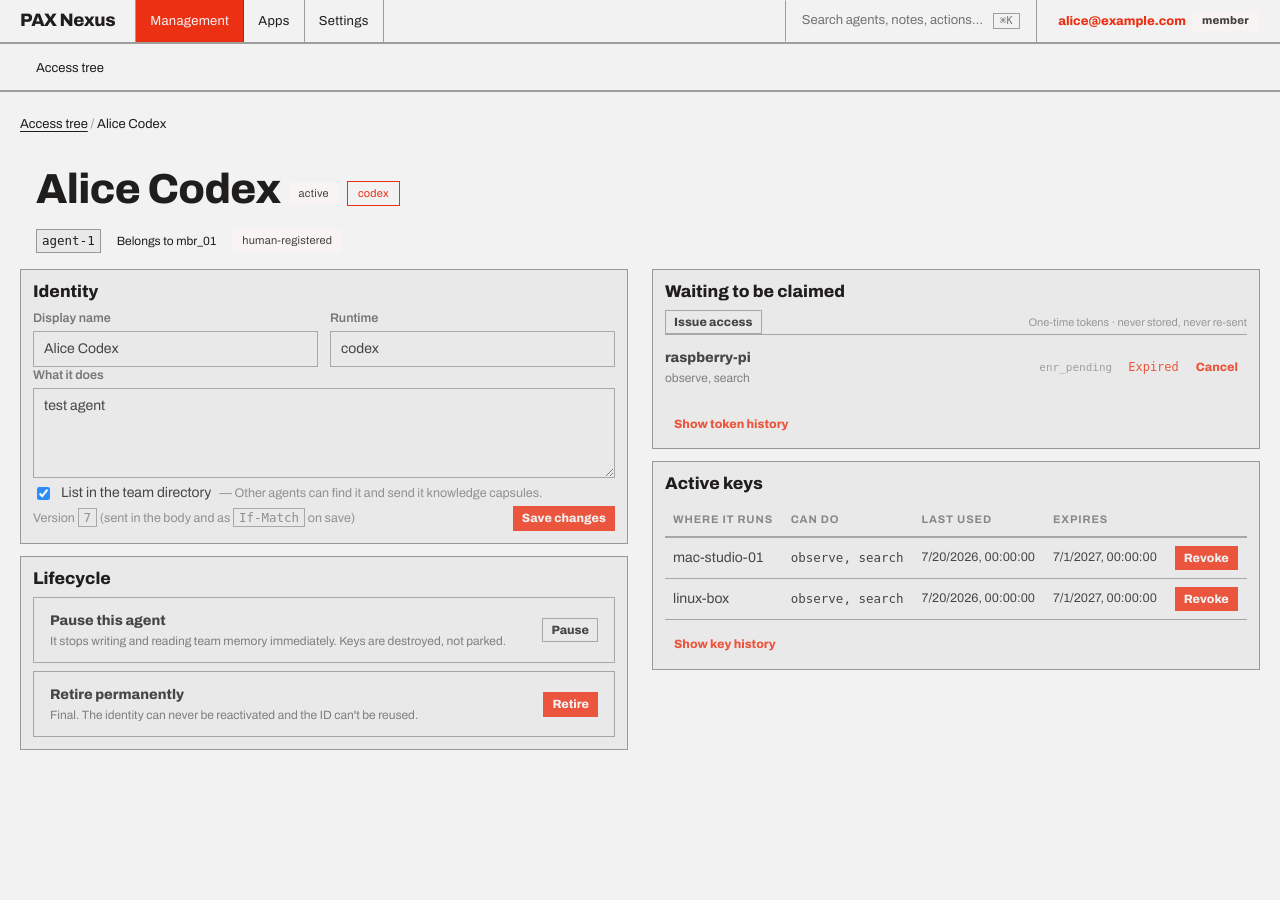
三态与降级 › Active keys 卡与暂停确认弹窗对同一批密钥同源
Expected: the text "mac-studio-01" is shown, [665,537,783,578]
Expected: the text "linux-box" is shown, [665,578,783,620]
# 暂停确认弹窗：同一批数据必须在这里再出现一次，计数文案对得上。
Click the button "Pause": (570, 630) [542,618,598,642]
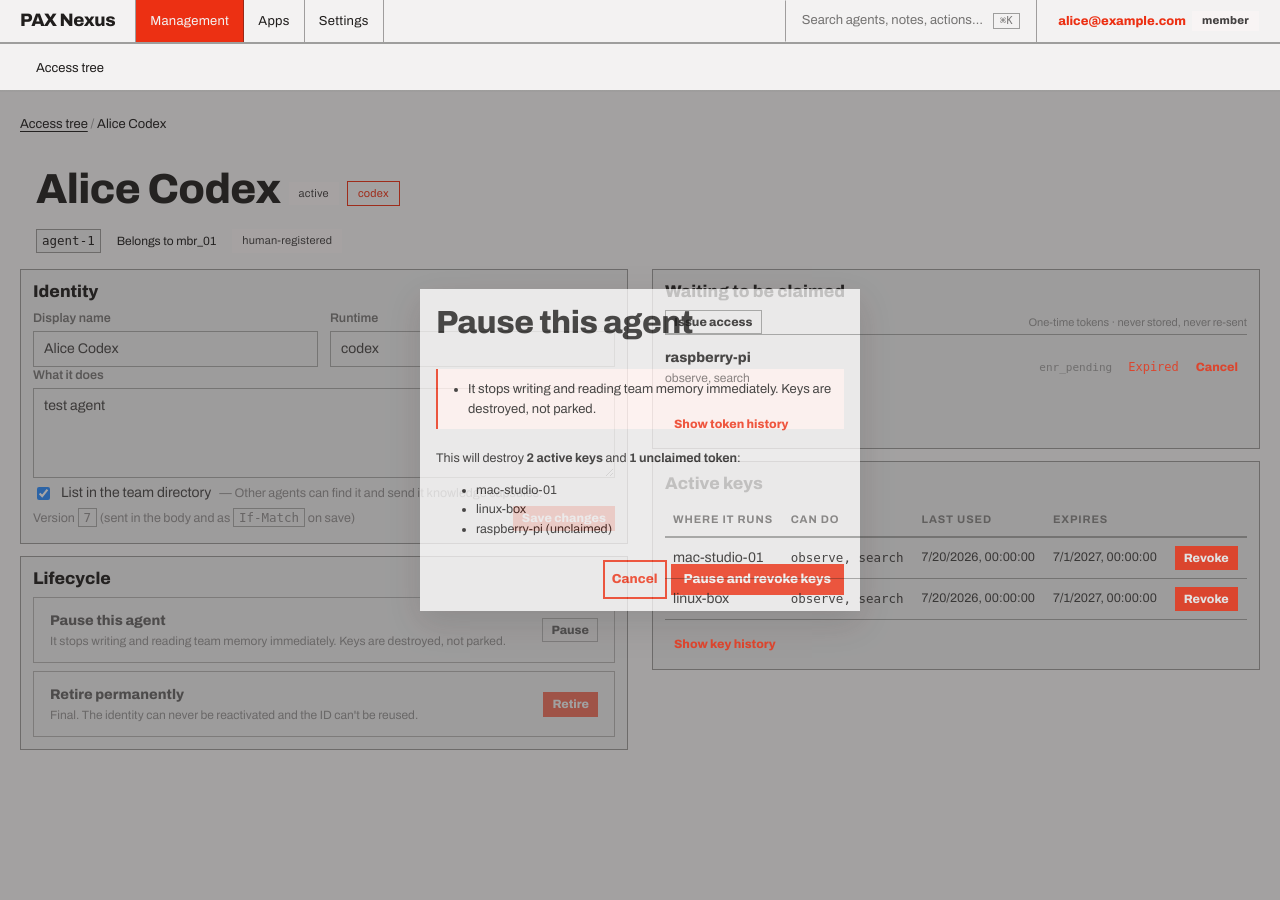
Expected: the text "2 active keys" is shown, [527,451,603,465]
Expected: the list item "mac-studio-01" is shown, [476,483,557,497]
Expected: the list item "linux-box" is shown, [476,502,526,516]
